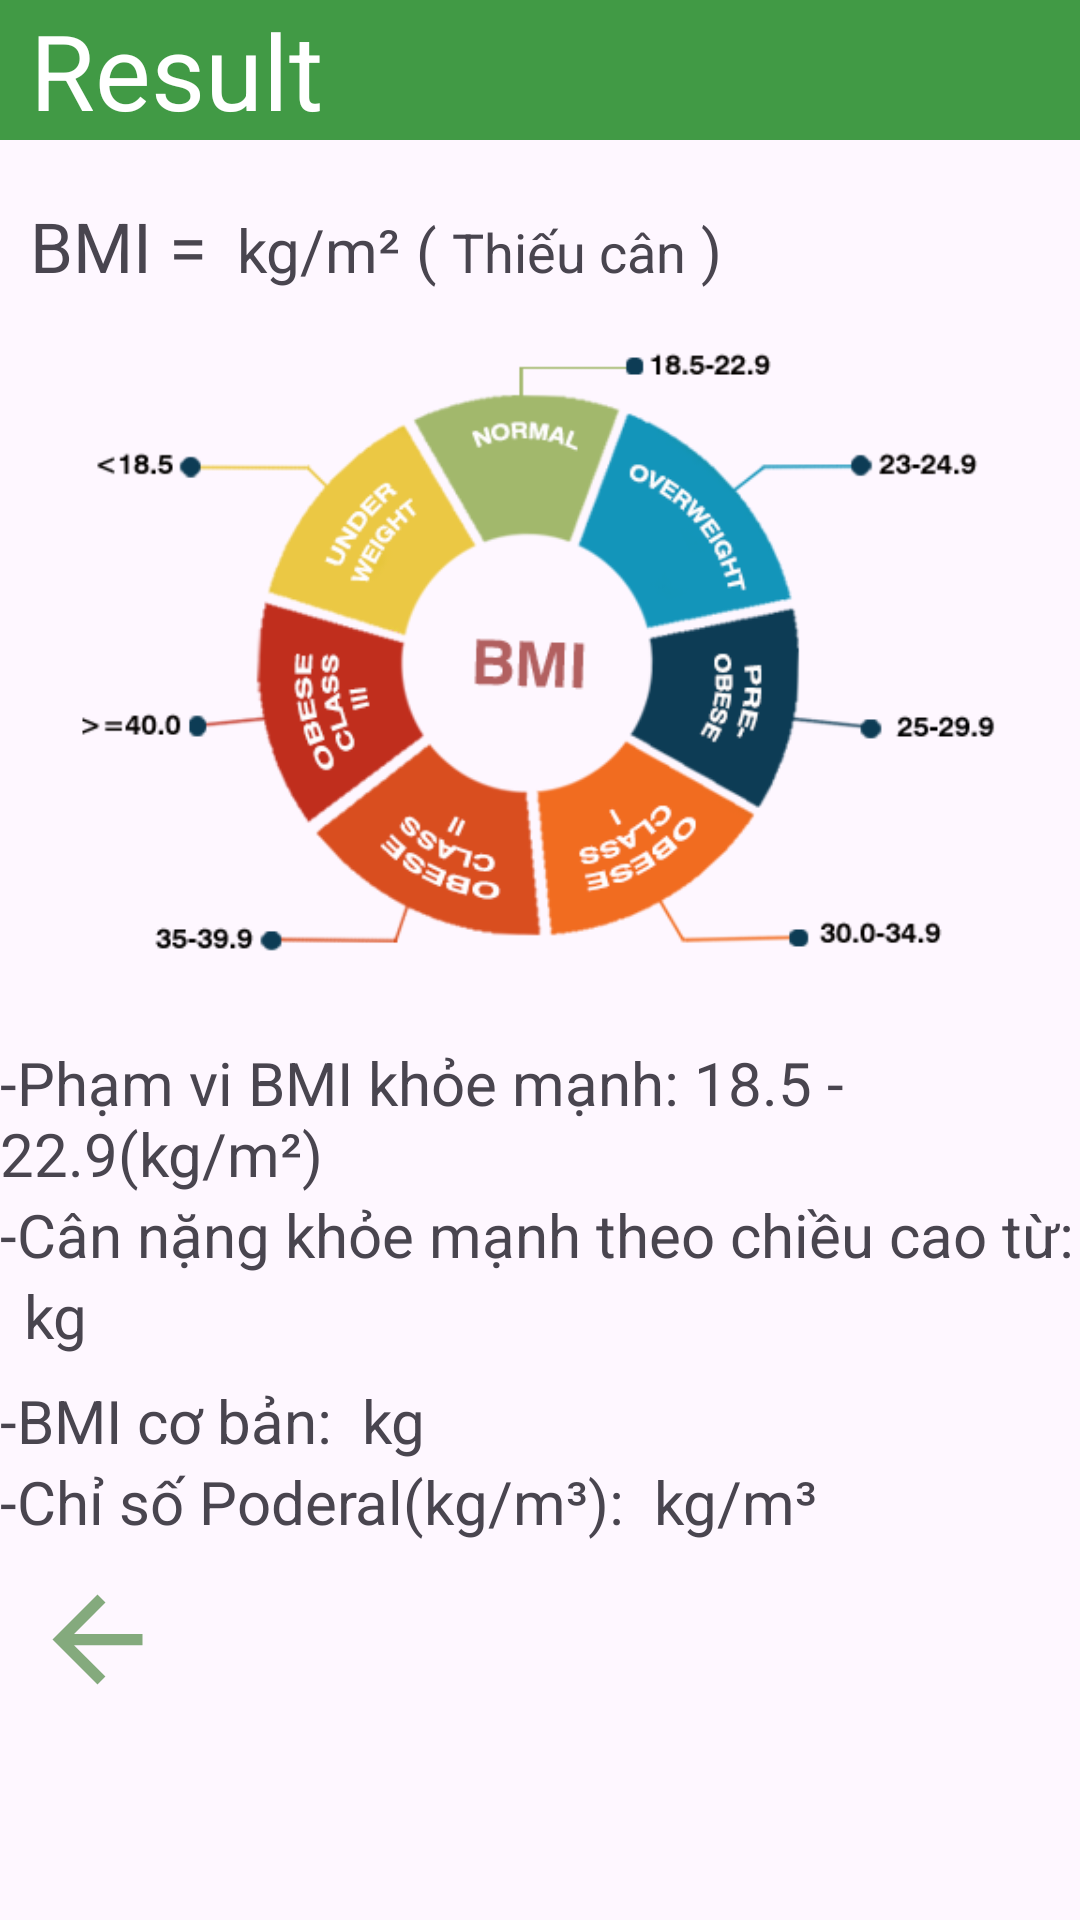

Icons on this 1080 × 1920 Android screen, each with the point to tap as (x=x, y=y):
Back: (x=97, y=1639)
